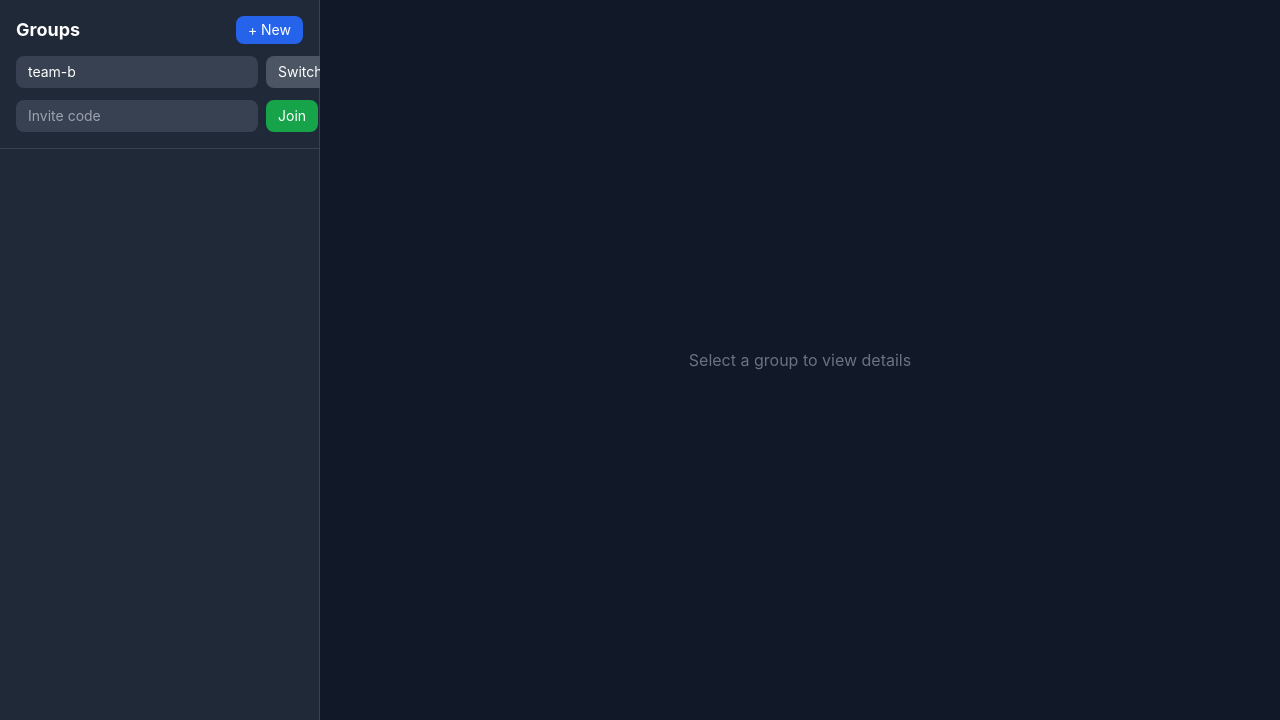
Scenario: G023: Group Management Page › TC-G023-008: shows error banner when create group fails
Step 1. Click the button "+ New" → (269, 30), box [236,16,303,44]
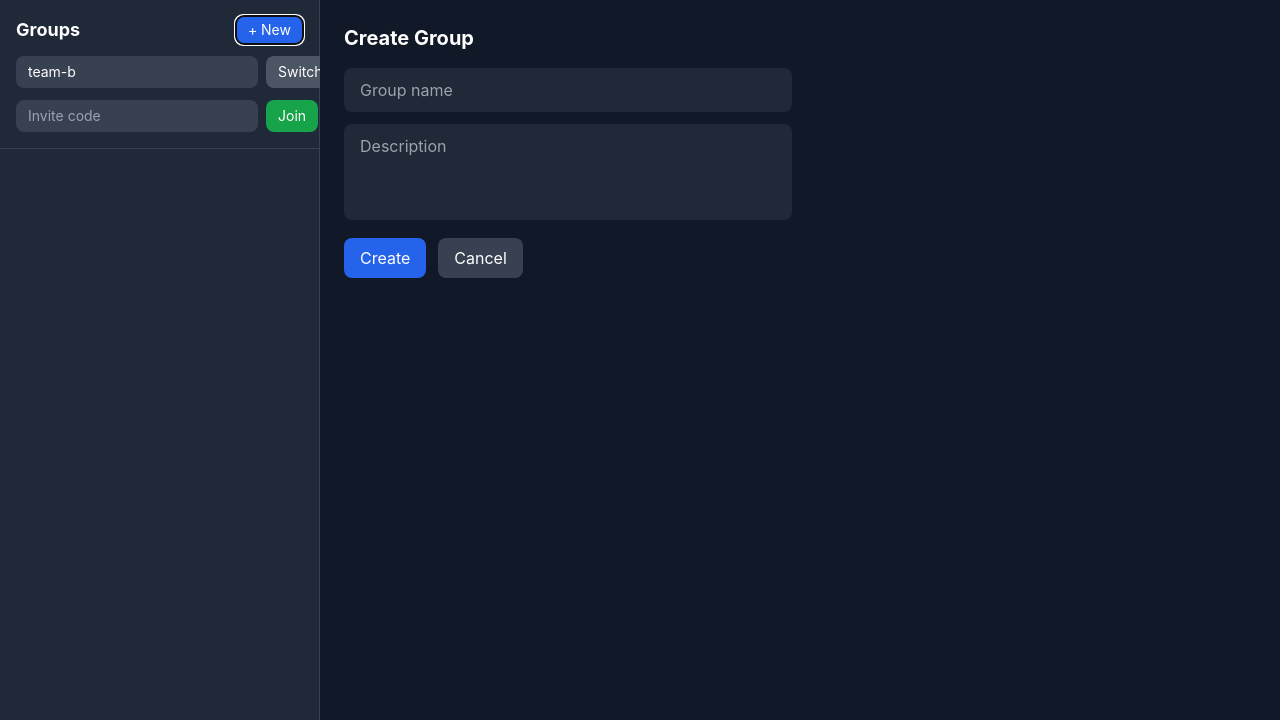
Step 2. Type "Bad Group" into the field with placeholder "Group name" → (568, 90), box [344,68,792,112]
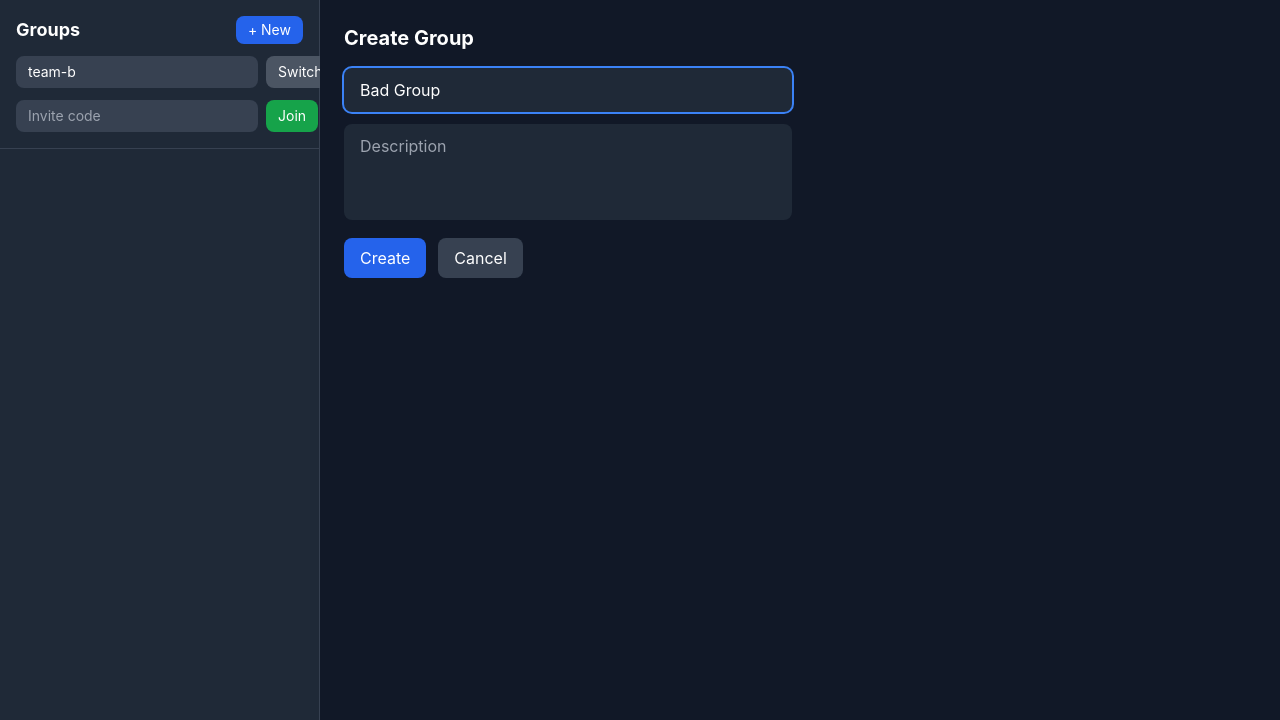
Step 3. Click the button "Create" → (385, 258), box [344,238,426,278]
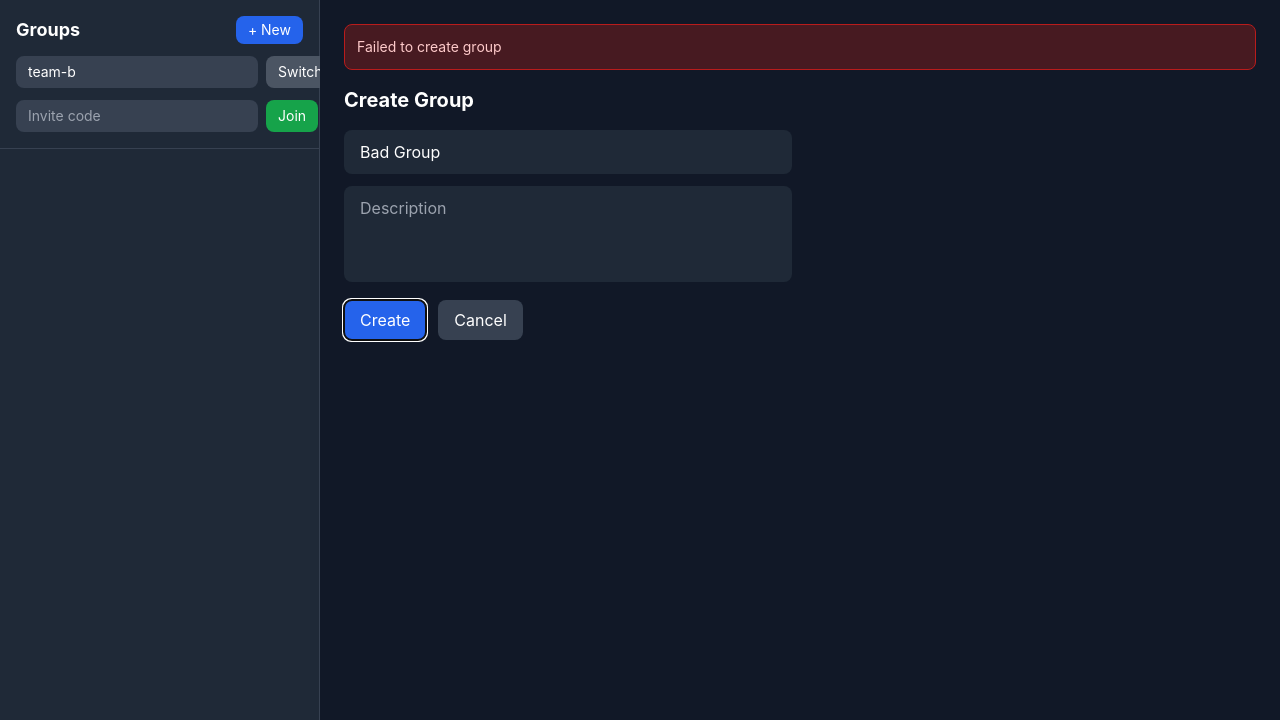
Now the text "Failed to create group" is shown, box [344,24,1256,70]
